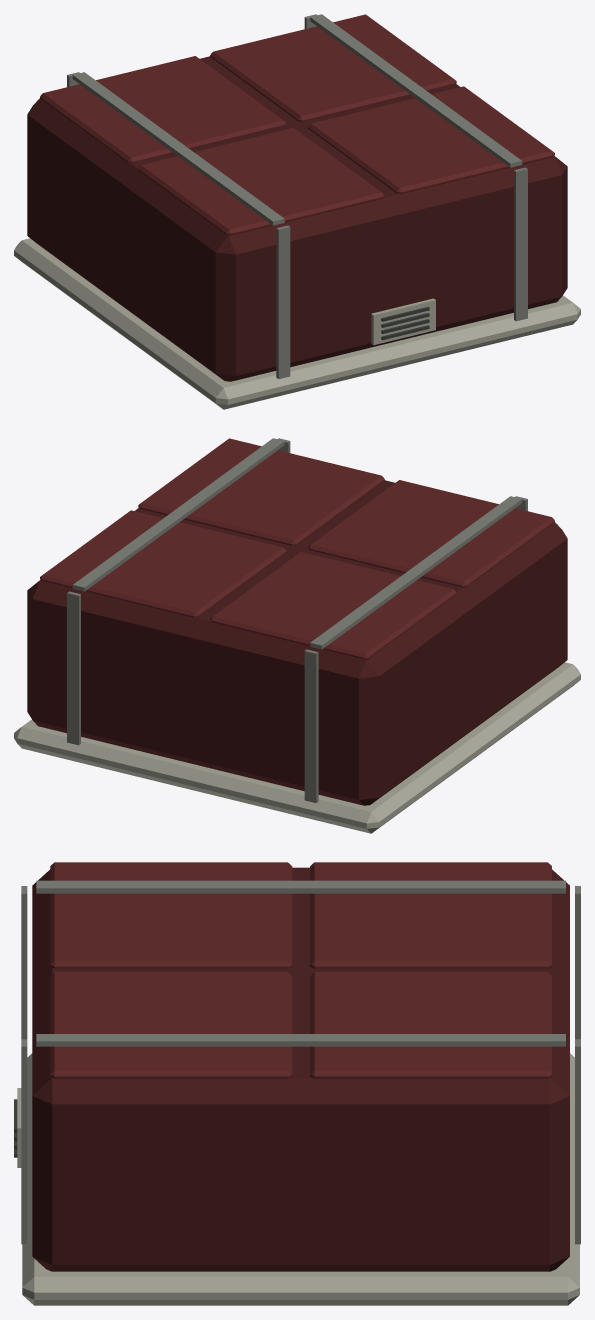
File: large_chemfuel_tank.obj
3 views of the same model, one above another, from view 1: azimuth 30°, elevation 25°; view 2: azimuth 150°, elevation 25°; view 3: azimuth 270°, elevation 25° (orthographic). The views are drawn at different scales.
Parts seen in each view (by area): view 1: large_chemfuel_tank; view 2: large_chemfuel_tank; view 3: large_chemfuel_tank.
Part boxes in pixels (box(x1,y1,x2,y2)): large_chemfuel_tank: box(14, 14, 580, 409); large_chemfuel_tank: box(14, 438, 580, 833); large_chemfuel_tank: box(14, 862, 580, 1305).
Size of the model in its own units: 2.8 by 1.28 by 2.85.
